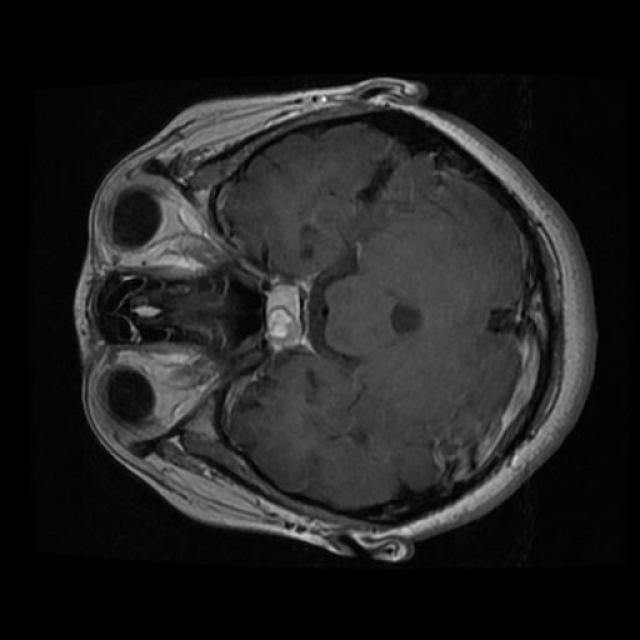Pituitary: (264, 275, 314, 353)
